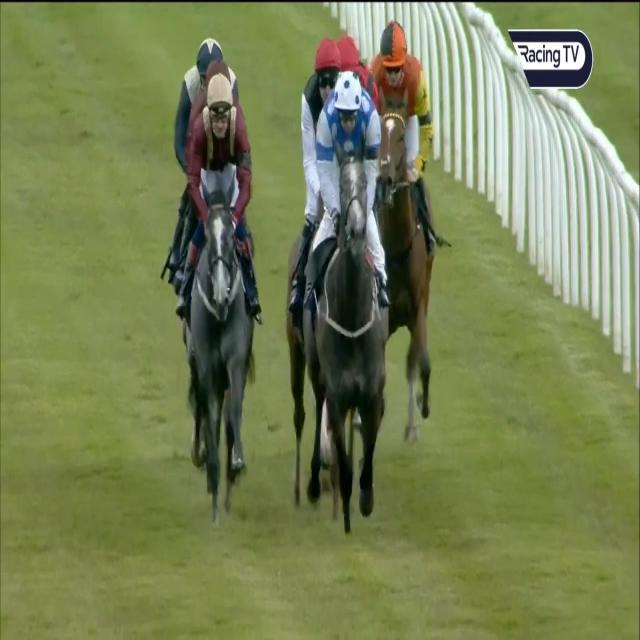horses-racing: (371, 14, 479, 444), (309, 63, 398, 526), (184, 78, 262, 538), (282, 35, 338, 424), (173, 31, 260, 143), (194, 53, 252, 133), (338, 30, 384, 104)
